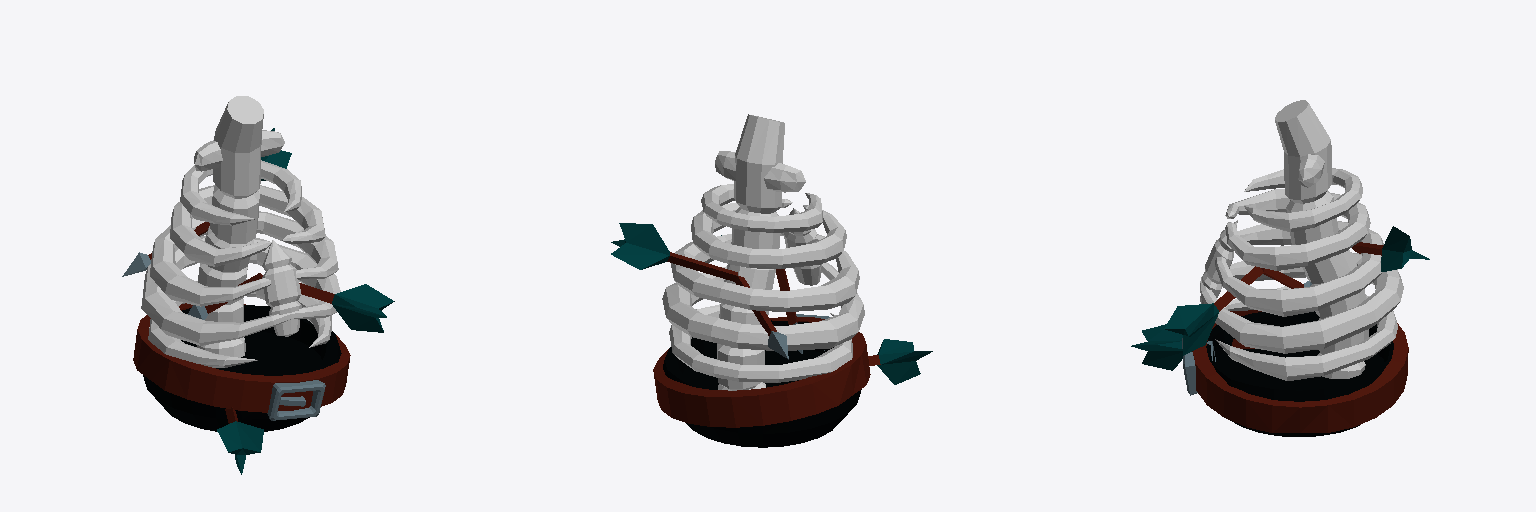
File: character_skeleton_minion_body_broken.obj
3 views of the same model, side by side, from view 1: azimuth 30°, elevation 25°; view 2: azimuth 150°, elevation 25°; view 3: azimuth 270°, elevation 25° (orthographic).
Visible parts, largest first — view 1: character_skeleton_minion_body_broken_Cube.7644; view 2: character_skeleton_minion_body_broken_Cube.7644; view 3: character_skeleton_minion_body_broken_Cube.7644.
Part boxes in pixels (x1,y1,x2,y2): character_skeleton_minion_body_broken_Cube.7644: (122,96,394,474); character_skeleton_minion_body_broken_Cube.7644: (611,114,932,447); character_skeleton_minion_body_broken_Cube.7644: (1131,100,1429,436).
Bounding box in the file's own units: 0.6933 × 1.03 × 0.9316.